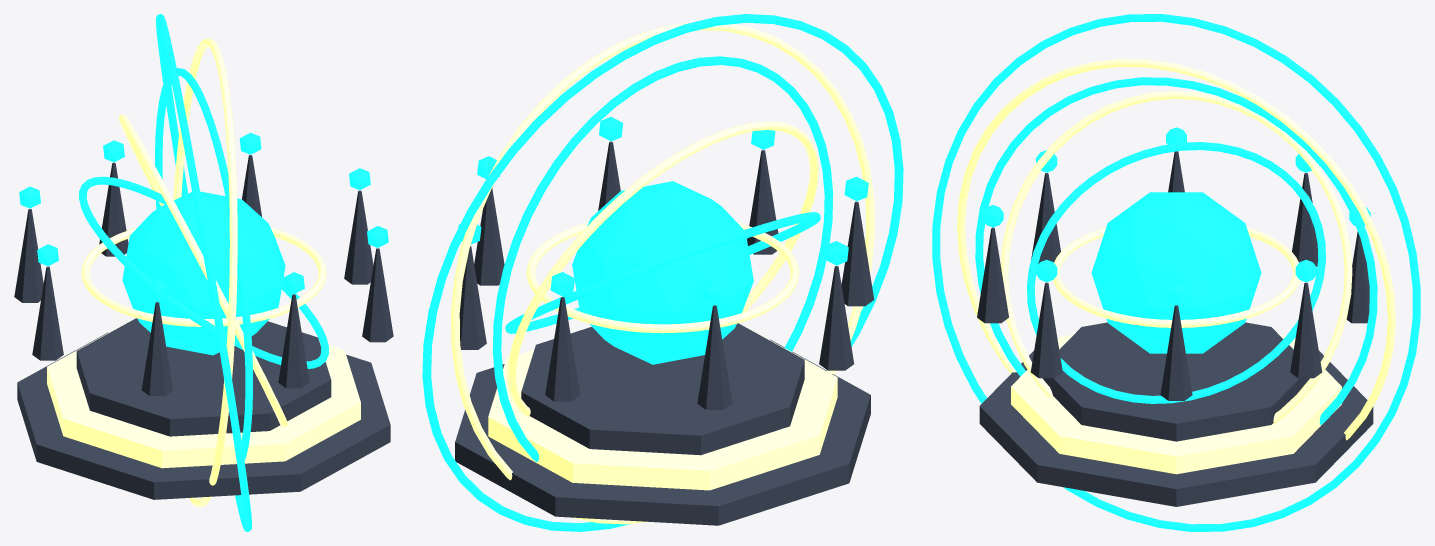
File: gpu-blender-v48.glb
3 views of the same model, side by side, from view 1: azimuth 30°, elevation 25°; view 2: azimuth 150°, elevation 25°; view 3: azimuth 270°, elevation 25° (orthographic). The views are drawn at different scales.
Parts seen in each view (by area): view 1: Cylinder.002, Cylinder, SovereignCore_jwt-inspector-guard, Cylinder.001, Torus.005, Torus.004, Torus.003, Torus.001, Torus, Torus.002, Cone.007, Cone.006 (+6 smaller); view 2: Cylinder.002, SovereignCore_jwt-inspector-guard, Cylinder, Cylinder.001, Torus.005, Torus.004, Torus.003, Torus.002, Torus.001, Torus, Cone.004, Cone.002 (+6 smaller); view 3: SovereignCore_jwt-inspector-guard, Cylinder.002, Cylinder, Cylinder.001, Torus.005, Torus.004, Torus.003, Torus.002, Torus.001, Torus, Cone.001, Cone.007 (+5 smaller).
Part boxes in pixels (x1=…): Cylinder.002: x1=76, y1=318, x2=331, y2=436; Cylinder: x1=17, y1=332, x2=390, y2=499; SovereignCore_jwt-inspector-guard: x1=122, y1=191, x2=285, y2=355; Cylinder.001: x1=47, y1=325, x2=360, y2=468; Torus.005: x1=156, y1=14, x2=251, y2=531; Torus.004: x1=173, y1=38, x2=237, y2=507; Torus.003: x1=155, y1=68, x2=252, y2=459; Torus.001: x1=79, y1=176, x2=328, y2=368; Torus: x1=81, y1=227, x2=326, y2=326; Torus.002: x1=118, y1=114, x2=287, y2=426; Cone.007: x1=362, y1=248, x2=393, y2=342; Cone.006: x1=278, y1=294, x2=309, y2=388; Cylinder.002: x1=521, y1=323, x2=804, y2=455; SovereignCore_jwt-inspector-guard: x1=572, y1=181, x2=753, y2=364; Cylinder: x1=455, y1=339, x2=870, y2=525; Cylinder.001: x1=488, y1=330, x2=837, y2=490; Torus.005: x1=422, y1=14, x2=903, y2=531; Torus.004: x1=451, y1=22, x2=874, y2=524; Torus.003: x1=492, y1=56, x2=833, y2=461; Torus.002: x1=507, y1=121, x2=818, y2=416; Torus.001: x1=505, y1=212, x2=820, y2=333; Torus: x1=526, y1=222, x2=799, y2=333; Cone.004: x1=819, y1=266, x2=854, y2=370; Cone.002: x1=545, y1=297, x2=580, y2=401; SovereignCore_jwt-inspector-guard: x1=1091, y1=192, x2=1261, y2=353; Cylinder.002: x1=1043, y1=322, x2=1309, y2=441; Cylinder: x1=979, y1=351, x2=1373, y2=506; Cylinder.001: x1=1011, y1=334, x2=1341, y2=474; Torus.005: x1=932, y1=14, x2=1420, y2=531; Torus.004: x1=957, y1=59, x2=1395, y2=440; Torus.003: x1=975, y1=77, x2=1377, y2=424; Torus.002: x1=1001, y1=91, x2=1352, y2=423; Torus.001: x1=1027, y1=142, x2=1325, y2=403; Torus: x1=1053, y1=227, x2=1299, y2=327; Cone.001: x1=1290, y1=282, x2=1322, y2=378; Cone.007: x1=1030, y1=282, x2=1062, y2=378.
Bounding box in the file's own units: 4.41 × 5.93 × 5.46.
